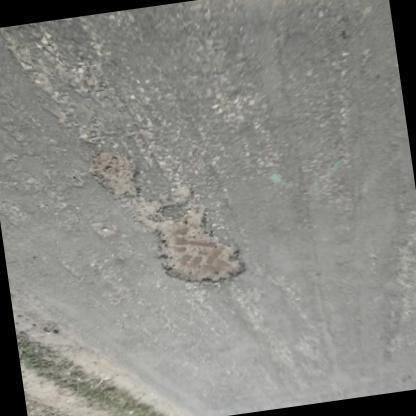pothole: (90, 150, 250, 283)
